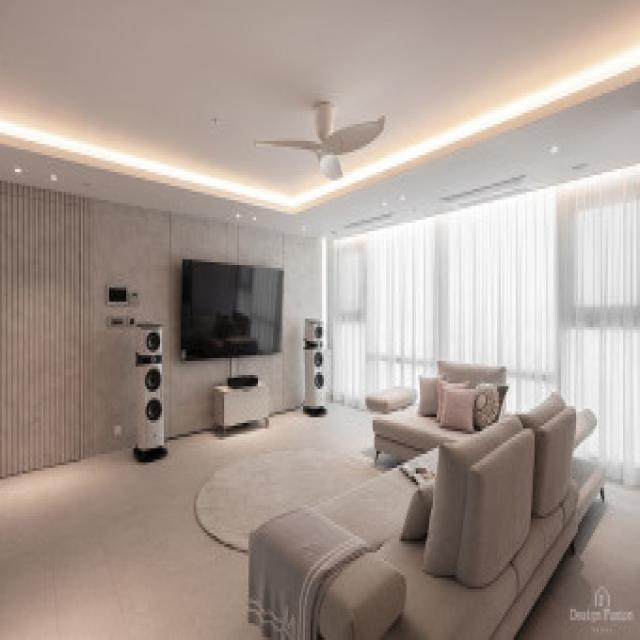Sofa: (253, 410, 614, 640), (332, 229, 628, 361), (349, 348, 510, 464)
tv: (178, 252, 288, 368)
